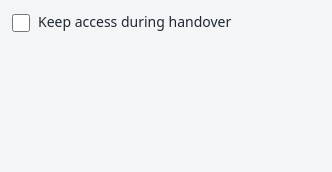
Scenario: Checkbox › toggles from its label and with the space bar
Click the text "Keep access during handover".
click(135, 22)  # box [38,12,231,31]
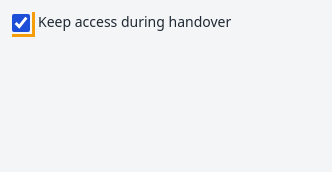
Expected: the checkbox labelled "Keep access during handover" is checked, [12,14,30,32]
Type keys " "
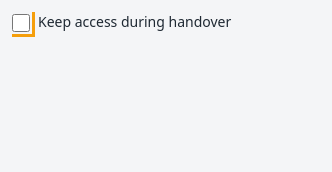
Expected: the checkbox labelled "Keep access during handover" is not checked, [12,14,30,32]
